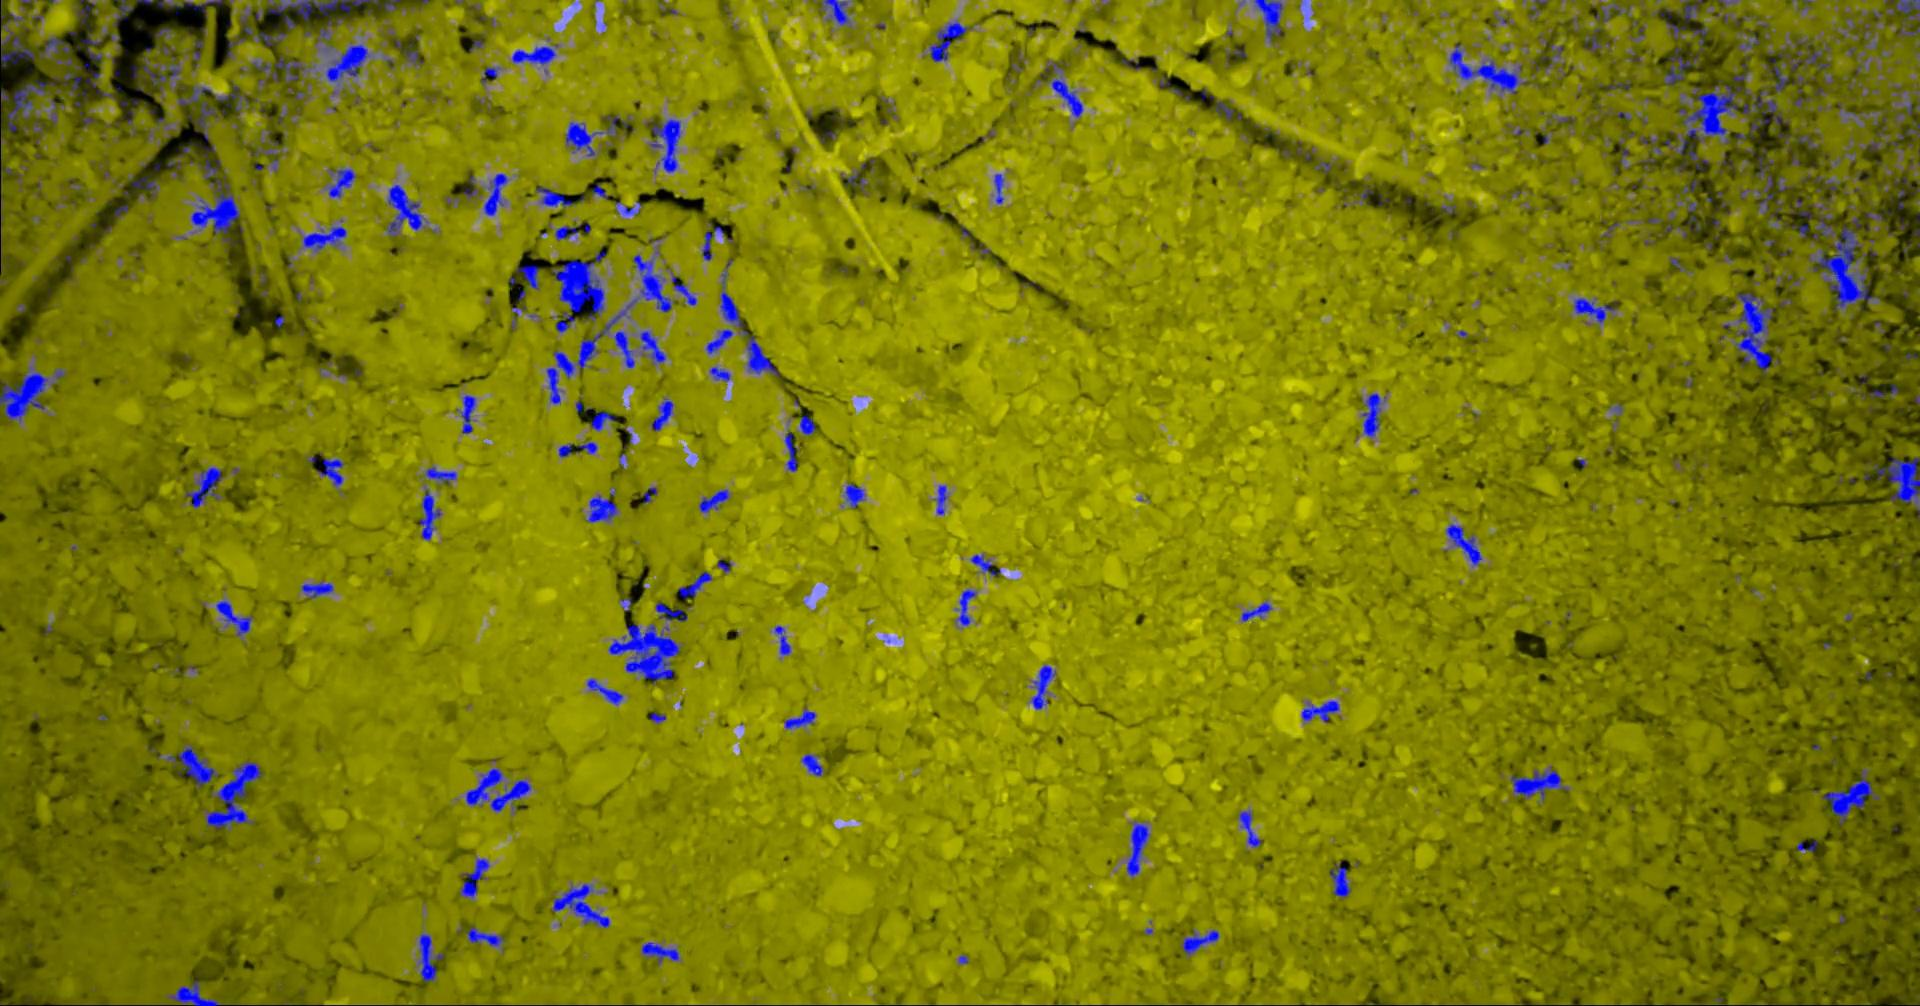ant: (1821, 768, 1879, 823), (551, 883, 610, 927), (1755, 149, 1793, 213), (1040, 60, 1082, 117), (632, 254, 673, 312), (166, 743, 218, 788), (1864, 109, 1919, 151), (564, 116, 618, 156), (1510, 765, 1568, 801), (386, 184, 427, 236), (1810, 177, 1840, 240), (239, 8, 287, 47), (0, 11, 34, 66), (325, 42, 370, 84), (930, 20, 971, 61), (141, 56, 180, 99), (649, 118, 681, 171), (184, 466, 225, 507), (1445, 523, 1481, 565), (465, 768, 502, 807), (1663, 47, 1699, 86), (168, 979, 220, 1005), (215, 600, 251, 635), (490, 779, 531, 810), (1253, 0, 1284, 42), (1126, 821, 1149, 876), (1884, 0, 1919, 36), (458, 857, 489, 897), (418, 934, 443, 981), (215, 83, 248, 117), (1360, 392, 1385, 437), (419, 488, 441, 540), (302, 226, 345, 251), (1573, 297, 1617, 323), (1031, 664, 1055, 709), (193, 102, 216, 147), (1181, 929, 1219, 955), (483, 173, 507, 215), (585, 678, 623, 704), (535, 185, 575, 208), (177, 85, 215, 109), (639, 330, 665, 365), (678, 572, 712, 598), (510, 44, 557, 64), (585, 494, 617, 522), (670, 271, 696, 305), (1238, 809, 1261, 847), (326, 168, 356, 197), (249, 130, 281, 156), (641, 942, 678, 965), (817, 0, 850, 25), (701, 225, 724, 260), (1660, 8, 1685, 39), (1594, 0, 1630, 22), (1792, 72, 1813, 109), (955, 588, 977, 625), (1302, 700, 1338, 721), (466, 925, 503, 946), (315, 459, 343, 486), (613, 330, 634, 368), (650, 398, 673, 431), (1330, 860, 1350, 897), (276, 56, 305, 81), (1893, 95, 1919, 124), (1539, 39, 1563, 69), (698, 489, 729, 512), (969, 554, 1001, 575), (783, 706, 815, 728), (841, 170, 867, 196), (39, 36, 69, 58), (128, 175, 157, 198), (182, 0, 221, 17), (1239, 601, 1271, 621), (705, 329, 731, 353), (168, 141, 190, 169), (654, 602, 687, 621), (424, 466, 456, 485), (137, 0, 180, 14), (460, 394, 475, 433), (0, 131, 11, 183), (783, 429, 797, 471), (516, 264, 538, 290), (251, 61, 278, 83), (300, 582, 331, 598), (113, 0, 133, 25), (81, 34, 102, 58), (403, 39, 422, 65), (844, 483, 863, 508), (801, 753, 823, 775), (75, 0, 95, 23), (775, 625, 790, 655), (590, 412, 615, 431), (1677, 0, 1698, 22), (1737, 29, 1759, 50), (1225, 44, 1246, 66), (1291, 141, 1313, 161), (225, 36, 244, 58), (1859, 23, 1877, 47), (1583, 27, 1601, 51), (1783, 221, 1808, 238), (1639, 136, 1661, 155), (463, 169, 477, 198), (1691, 25, 1708, 50), (50, 97, 63, 124), (554, 225, 579, 240), (1597, 77, 1630, 89), (615, 201, 641, 215), (935, 485, 947, 514), (22, 116, 43, 132), (1796, 133, 1818, 149), (1669, 257, 1691, 272), (510, 306, 526, 329), (1528, 0, 1547, 18), (481, 66, 499, 85), (1215, 100, 1233, 119), (1777, 133, 1796, 151), (799, 414, 815, 434), (709, 366, 730, 381), (190, 39, 202, 67), (993, 173, 1003, 203), (287, 86, 309, 100), (1865, 210, 1891, 221), (1356, 183, 1371, 201), (1862, 387, 1884, 399), (577, 441, 597, 453), (1314, 158, 1331, 173), (1681, 179, 1699, 193), (377, 0, 399, 11), (1796, 840, 1817, 851), (1686, 199, 1697, 224), (592, 184, 607, 199), (643, 486, 657, 503), (716, 558, 731, 572), (1641, 158, 1655, 171), (557, 443, 571, 457), (113, 205, 127, 217), (649, 713, 665, 723), (1440, 205, 1457, 213)
